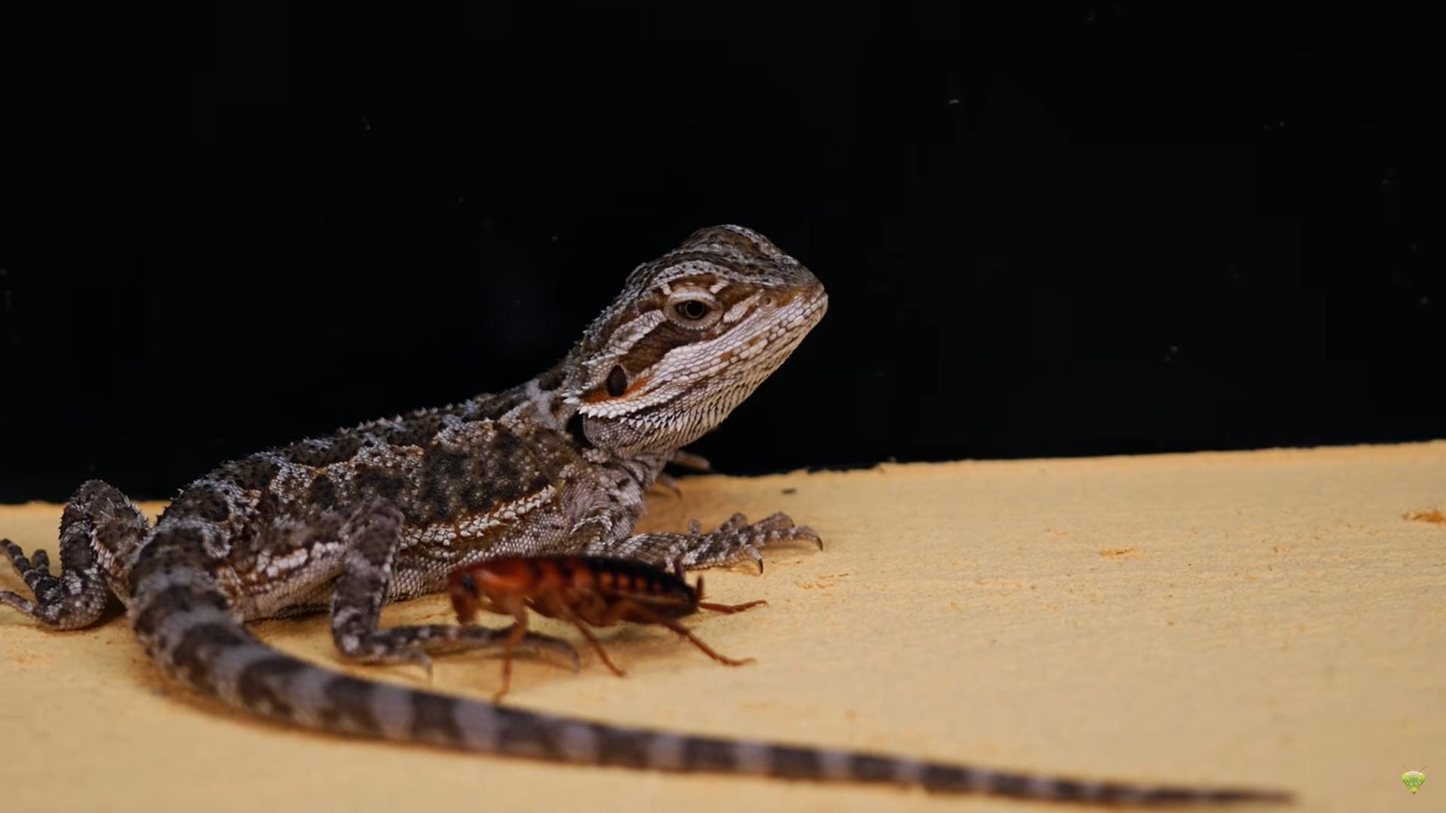cockroach: (424, 543, 768, 686)
lizard: (30, 221, 900, 789)
